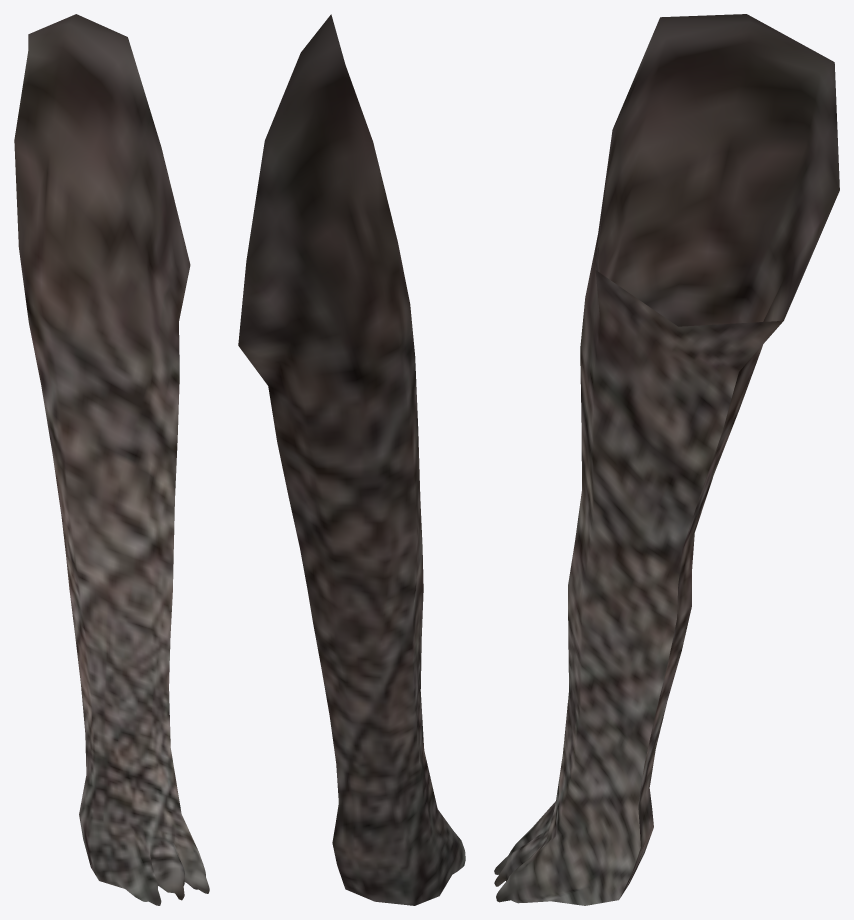
The model's file is piernaDD.obj.
The picture shows the model from 3 angles, left to right: view 1: azimuth 30°, elevation 25°; view 2: azimuth 150°, elevation 25°; view 3: azimuth 270°, elevation 25°; orthographic projection. The views are drawn at different scales.
Visible parts, largest first — view 1: PiernaDD; view 2: PiernaDD; view 3: PiernaDD.
Boxes of the visible parts, bbox=[...] form: PiernaDD: bbox=[14, 14, 209, 905]; PiernaDD: bbox=[238, 14, 465, 905]; PiernaDD: bbox=[494, 14, 839, 905].
Bounding box in the file's own units: 0.439 × 3.05 × 1.08.
1 material, 1 textured.
